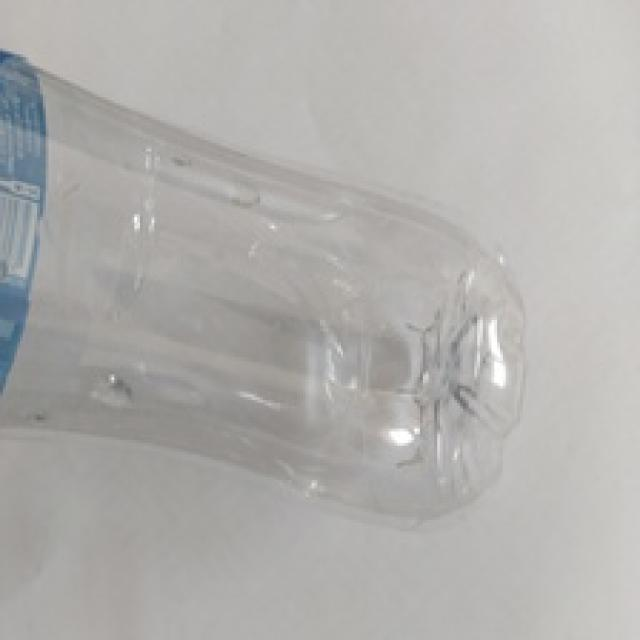Plastic: (0, 50, 519, 523)
